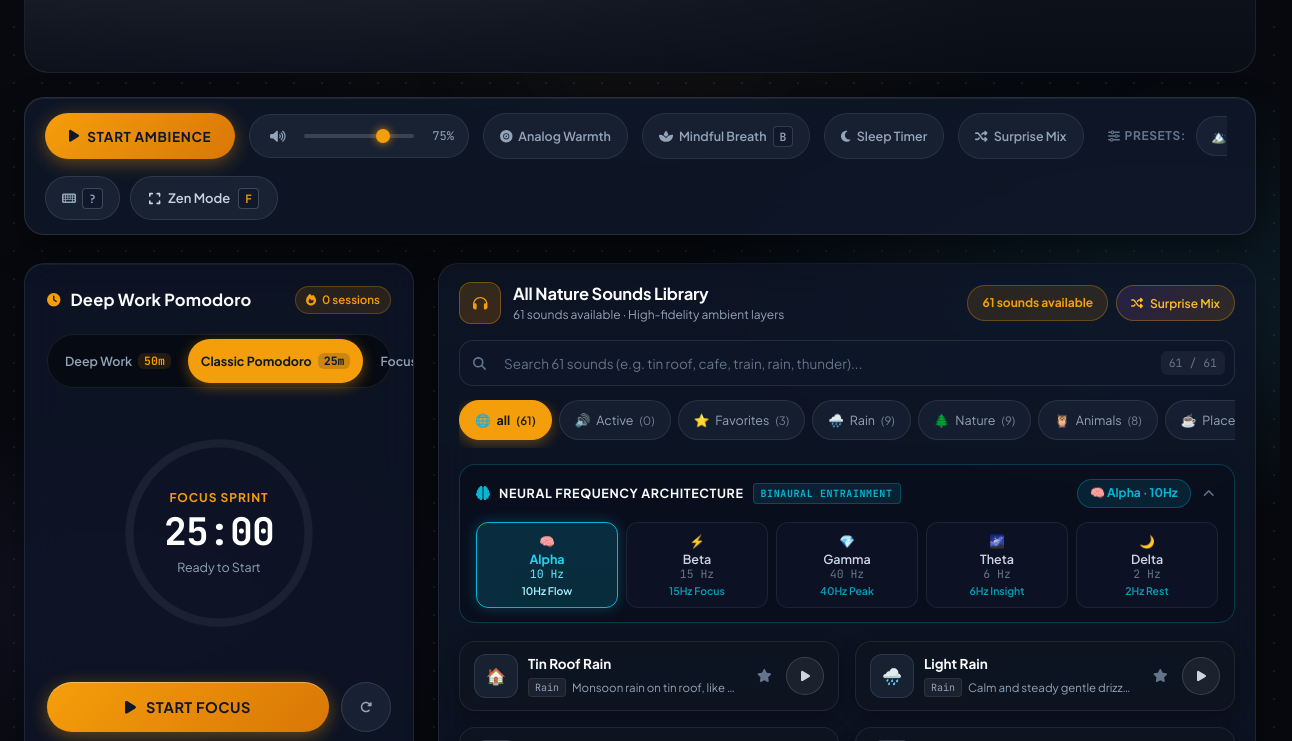
Test case: Focus Station Page › filters sounds via search input and resets on clear
(page scrolled)
Expected: the text "Tin Roof Rain" is shown, [528,654,611,675]
Note: Type query "tin roof"
Replace the text in the field named "Search sounds" with "tin roof" at (847, 363), box [459,340,1235,386]
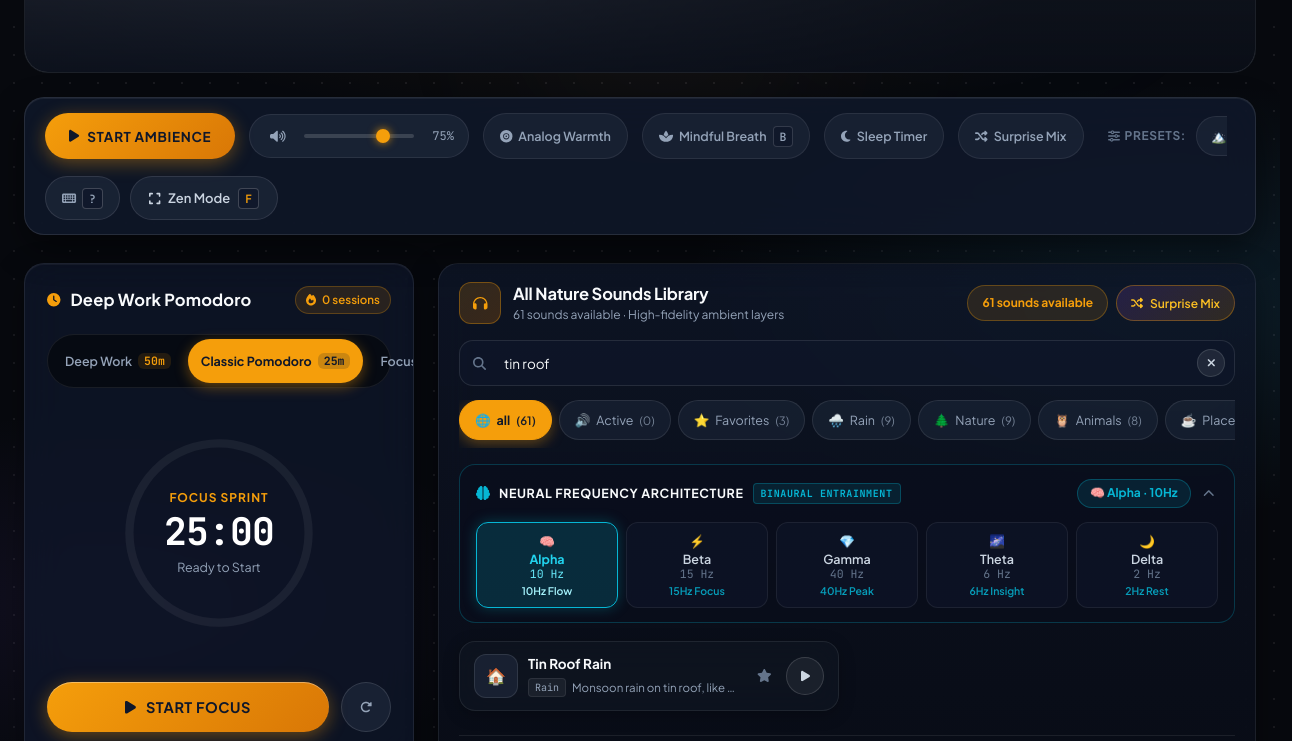
Expected: the text "Tin Roof Rain" is shown, [528,654,611,675]
Expected: the text "Ocean Waves" is not shown
Note: Click clear search button
Click the button named "Clear search".
click(1211, 363)  # box [1197,349,1225,377]
(page scrolled)
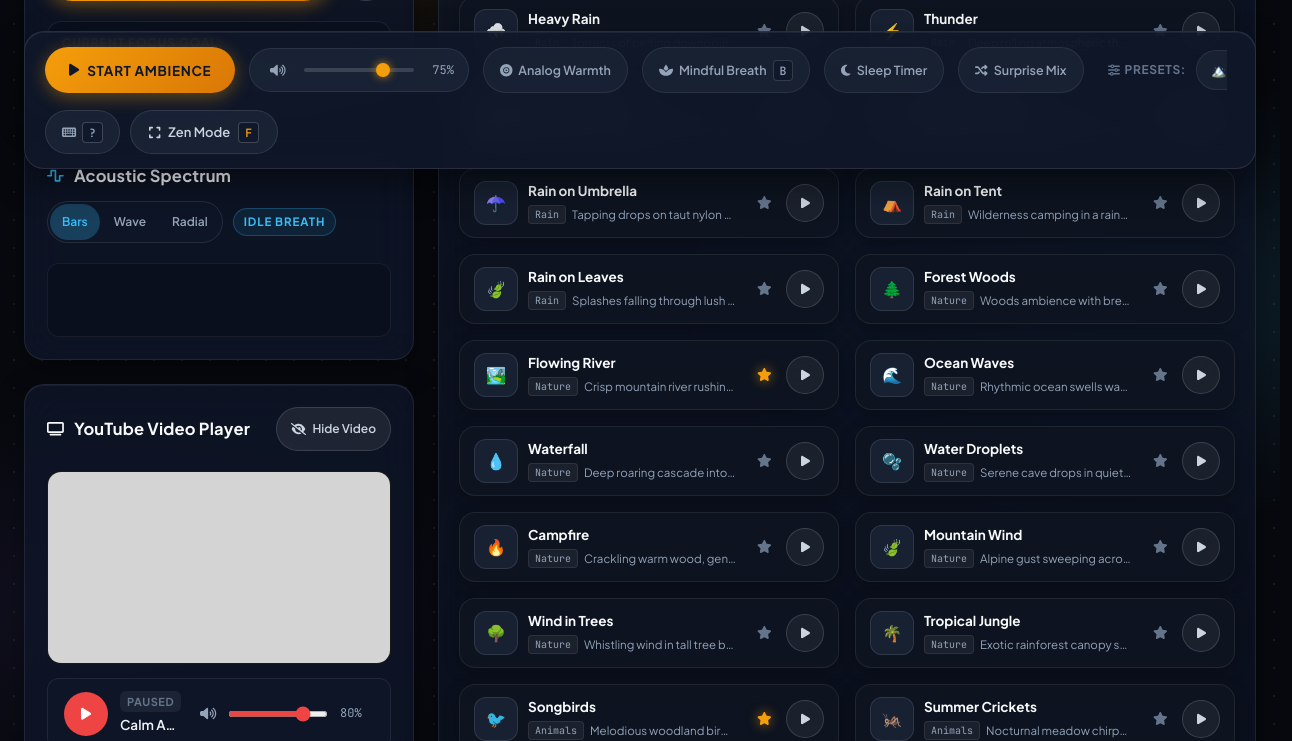
Expected: the text "Ocean Waves" is shown, [924,353,1014,374]
